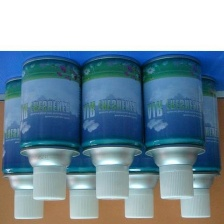aerosol_cans: (138, 51, 207, 203), (77, 53, 147, 201), (16, 54, 83, 203), (49, 73, 114, 224), (104, 73, 169, 224), (159, 71, 222, 224), (0, 74, 60, 221)
